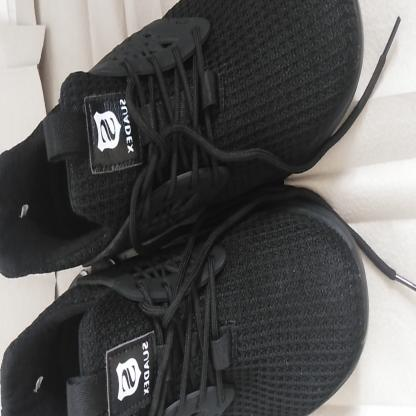safety-shoe: (0, 4, 364, 416)
